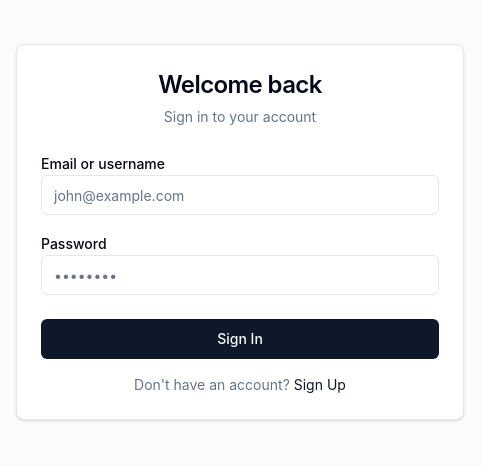
LoginPage › validates required fields
Click the button "Sign In": (240, 339) [41, 319, 439, 359]
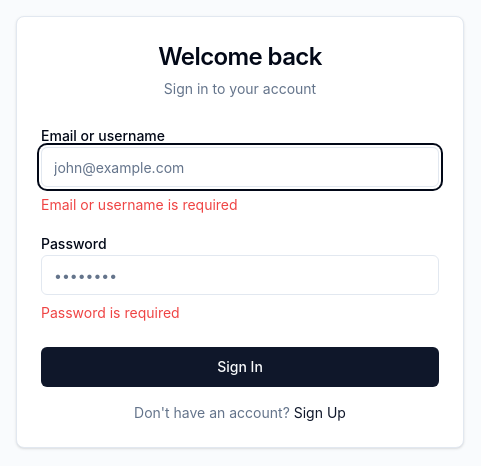
Check: the text "Email or username is required" is shown, box [41, 196, 238, 213]
Check: the text "Password is required" is shown, box [41, 304, 180, 321]
